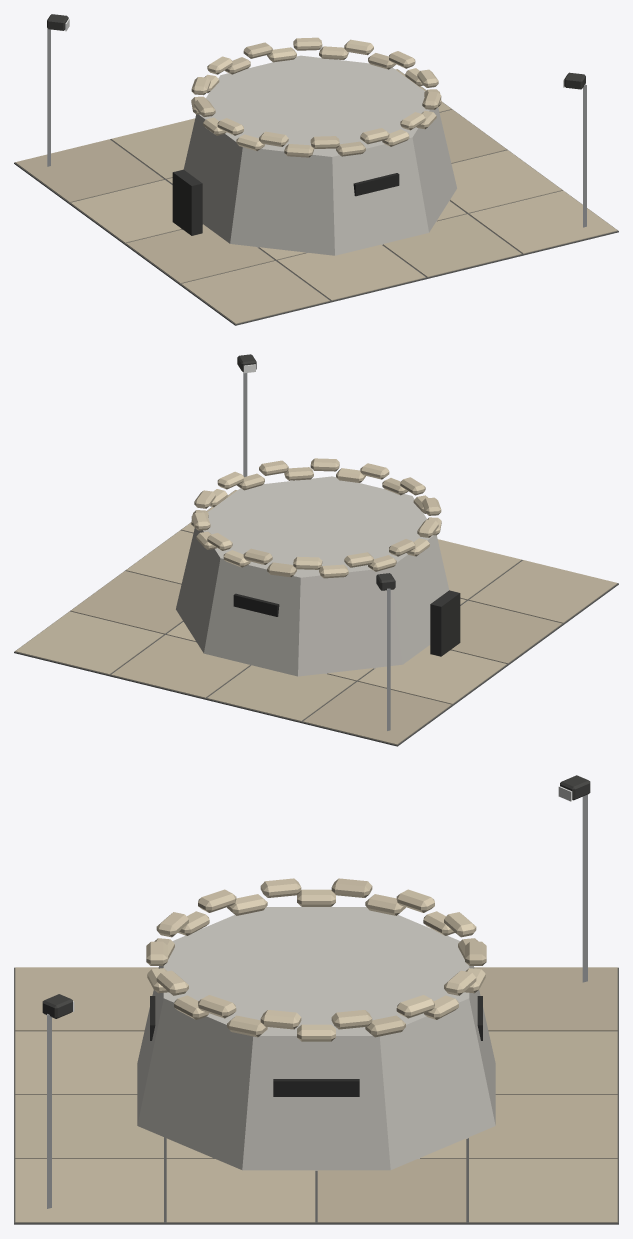
File: b_bunker.glb
3 renders of one model, top to bottom at view 1: azimuth 30°, elevation 25°; view 2: azimuth 150°, elevation 25°; view 3: azimuth 270°, elevation 25°, orthographic. The views are drawn at different scales.
Parts seen in each view (by area): view 1: hull; view 2: hull; view 3: hull.
Boxes of the visible parts, x1,y1,x2,y2 form: hull: (14,14,618,325); hull: (14,354,618,746); hull: (14,775,618,1224).
Bounding box in the file's own units: 14 × 5.28 × 14.
